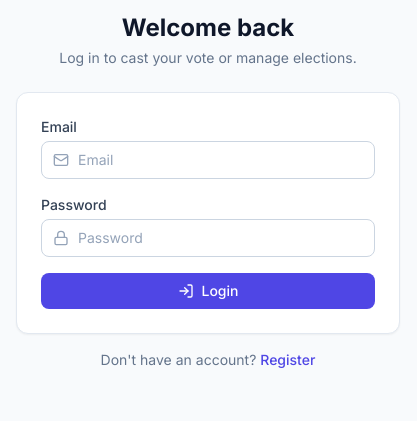
Test: LoginPage › shows an error message when login fails
Type "voter@example.com" into the field with placeholder "Email" at (208, 160), box [41, 141, 375, 179]
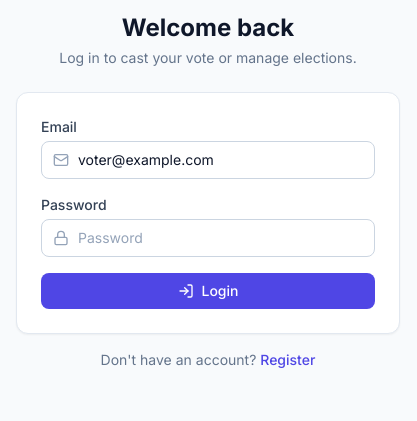
Type "WrongPassword" into the password field with placeholder "Password" at (208, 238), box [41, 219, 375, 257]
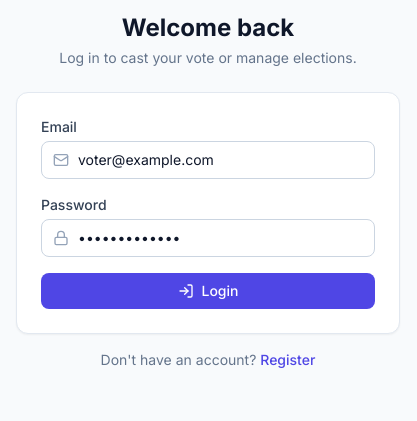
Click the button "Login" at (208, 291), box [41, 273, 375, 309]
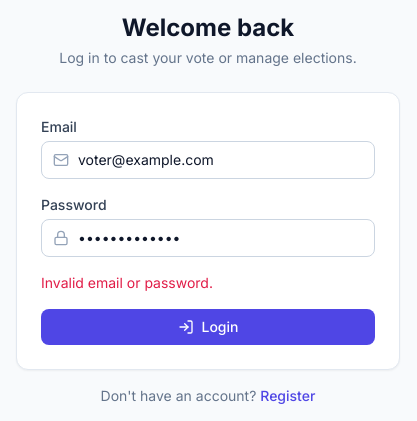
Expected: the text "Invalid email or password." is shown, [41, 274, 213, 291]
